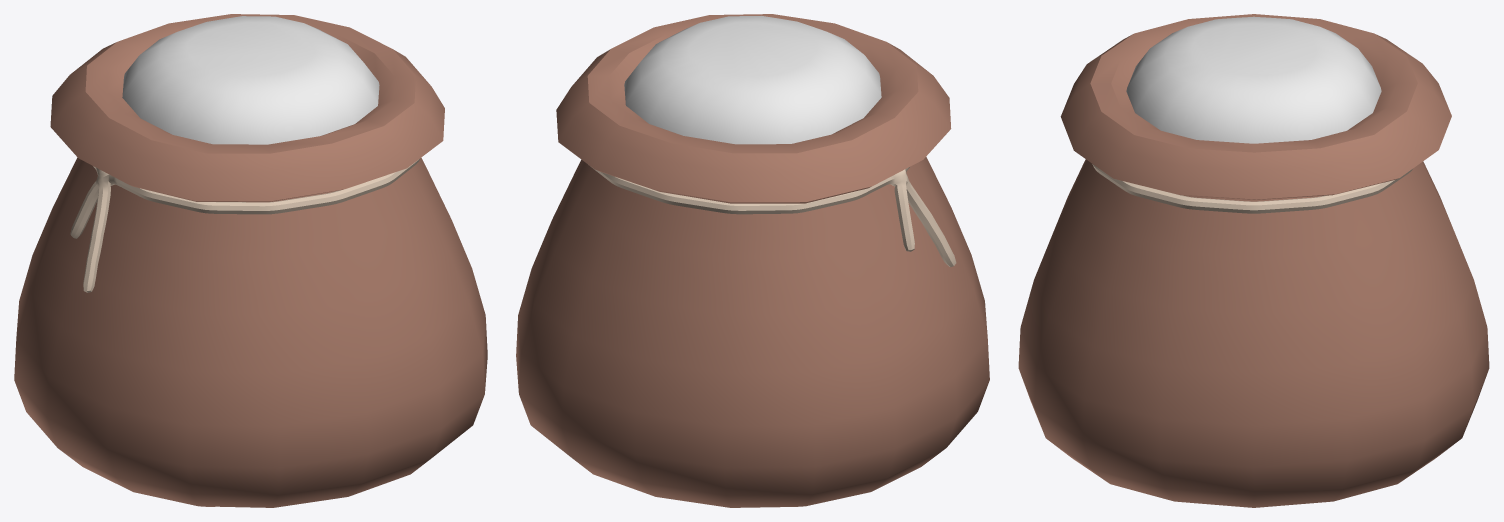
The model's file is UnÇuval.fbx.
3 views of the same model, side by side, from view 1: azimuth 30°, elevation 25°; view 2: azimuth 150°, elevation 25°; view 3: azimuth 270°, elevation 25° (orthographic).
Visible parts, largest first — view 1: Çuval; view 2: Çuval; view 3: Çuval.
Part boxes in pixels (<box>): Çuval: <box>14,14,487,507</box>; Çuval: <box>516,14,989,507</box>; Çuval: <box>1018,14,1489,507</box>.
Size of the model in its own units: 66.38 by 63.31 by 66.38.
